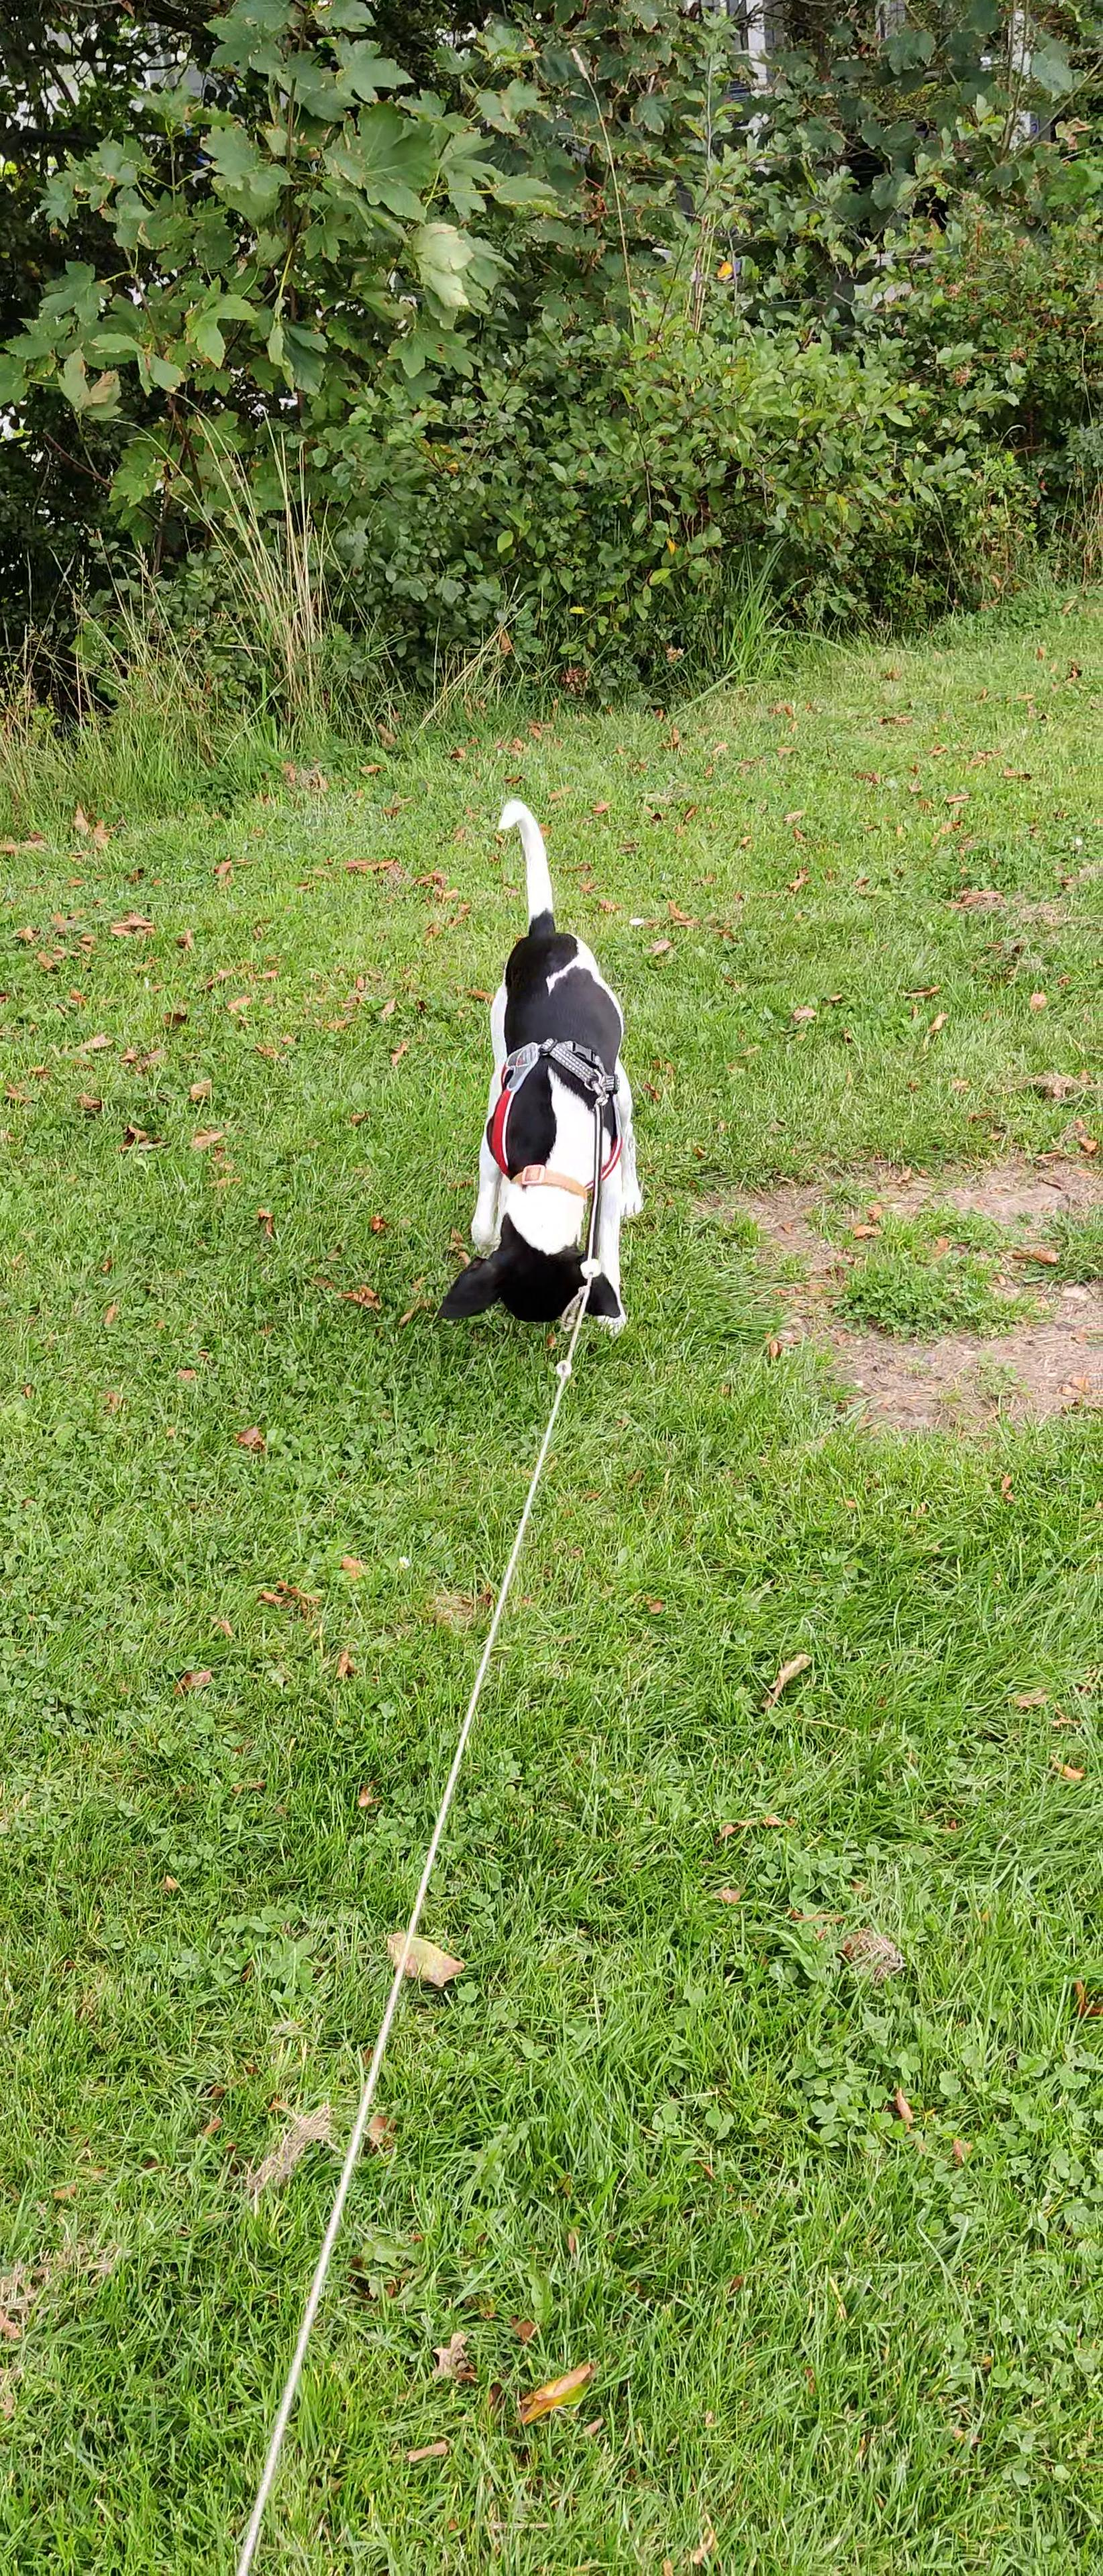Dog: (413, 795, 656, 1337)
